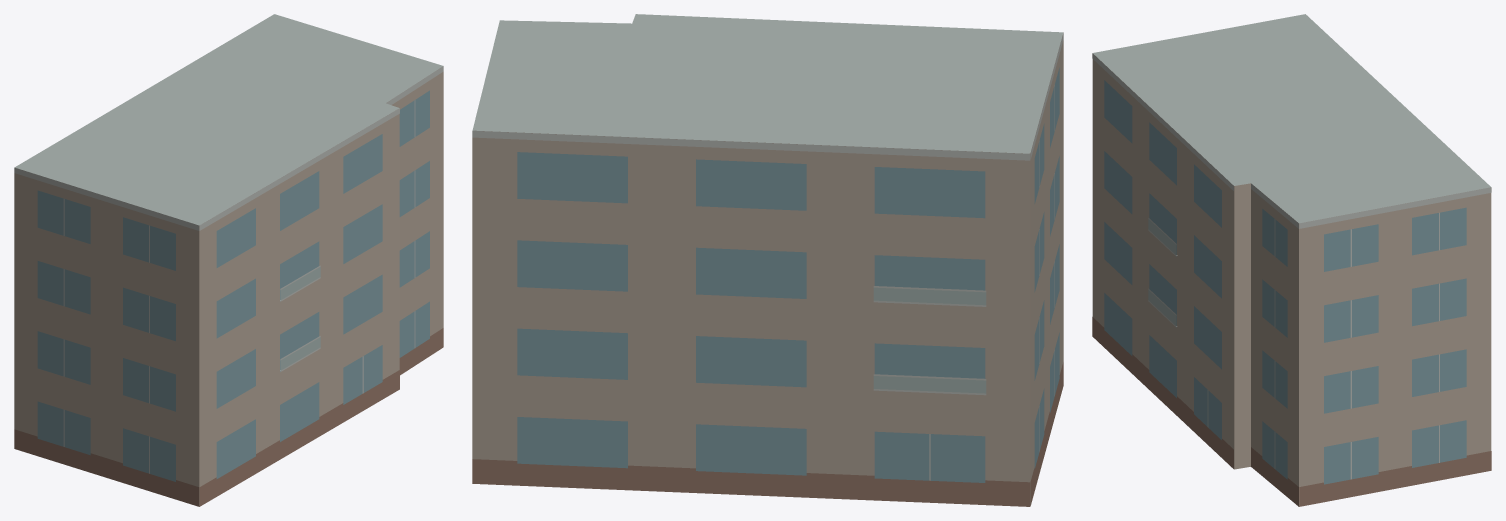
File: survey-upis-32536363.glb
The picture shows the model from 3 angles, left to right: view 1: azimuth 30°, elevation 25°; view 2: azimuth 150°, elevation 25°; view 3: azimuth 270°, elevation 25°; orthographic projection. The views are drawn at different scales.
Parts seen in each view (by area): view 1: survey-upis-32536363.tmp; view 2: survey-upis-32536363.tmp; view 3: survey-upis-32536363.tmp.
Boxes of the visible parts, x1,y1,x2,y2 form: survey-upis-32536363.tmp: (14, 14, 443, 506); survey-upis-32536363.tmp: (472, 14, 1063, 506); survey-upis-32536363.tmp: (1092, 14, 1491, 506).
Size of the model in its own units: 19.66 by 12.4 by 15.83.
